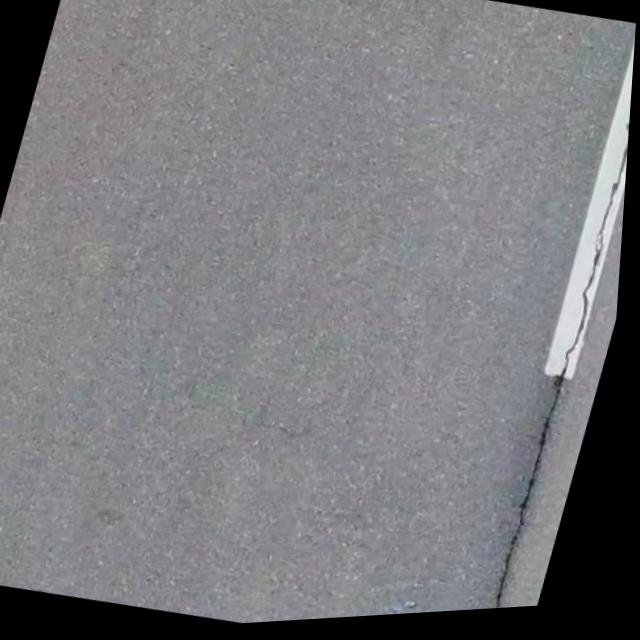Crack: (466, 29, 637, 617)
